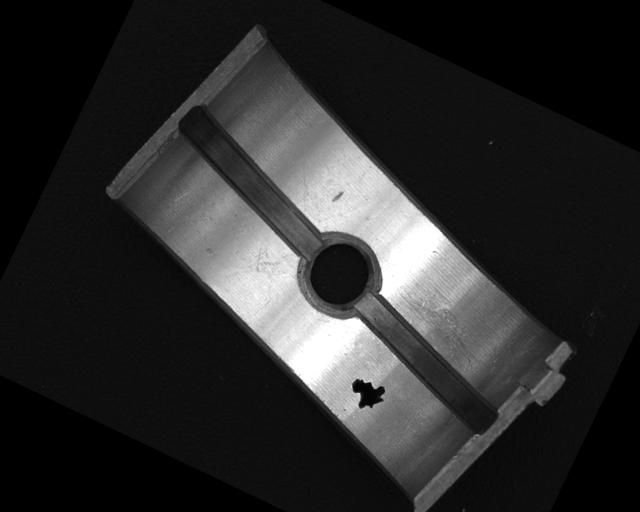blot: (342, 372, 390, 417)
bruise: (331, 188, 346, 206)
gap: (153, 103, 351, 261), (328, 291, 521, 438)
hole: (289, 227, 387, 327)
scratch: (380, 283, 500, 378)
